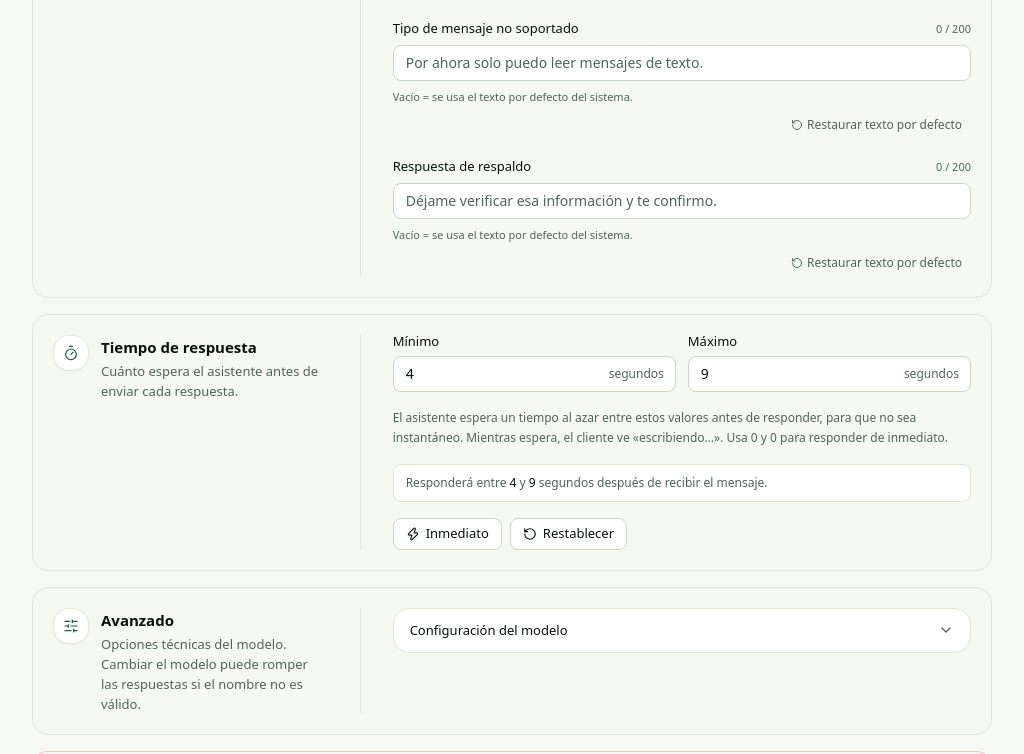
AiSettingsPage › ajusta y limita el tiempo de respuesta, y lo envía al guardar
(page scrolled)
Expected: the number field labelled "Máximo" holds "9", top-left (688, 356), bottom-right (971, 392)
Expected: the message named "Vista previa del tiempo de respuesta" reads "Responderá entre 4 y 9 segundos después de recibir el mensaje.", top-left (393, 464), bottom-right (971, 502)
Replace the text in the number field labelled "Mínimo" with "10": (534, 374) top-left (393, 356), bottom-right (676, 392)
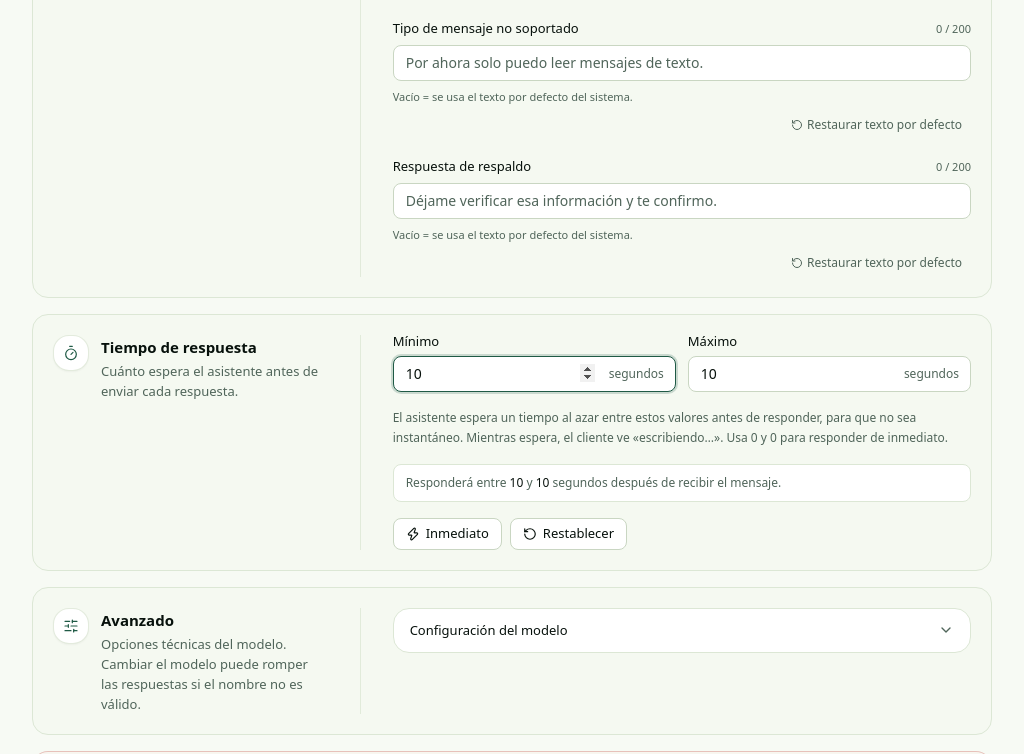
Expected: the number field labelled "Máximo" holds "10"
Replace the text in the number field labelled "Máximo" with "3": (829, 374) top-left (688, 356), bottom-right (971, 392)
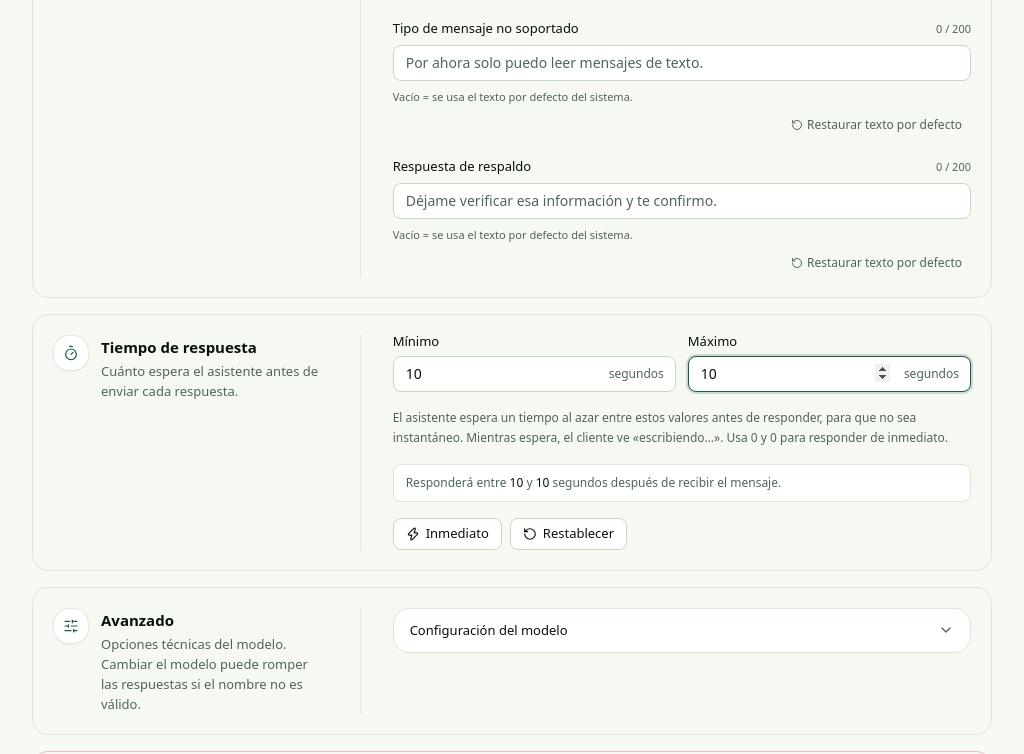
Expected: the number field labelled "Máximo" holds "10", top-left (688, 356), bottom-right (971, 392)
Replace the text in the number field labelled "Mínimo" with "30": (534, 374) top-left (393, 356), bottom-right (676, 392)
(page scrolled)
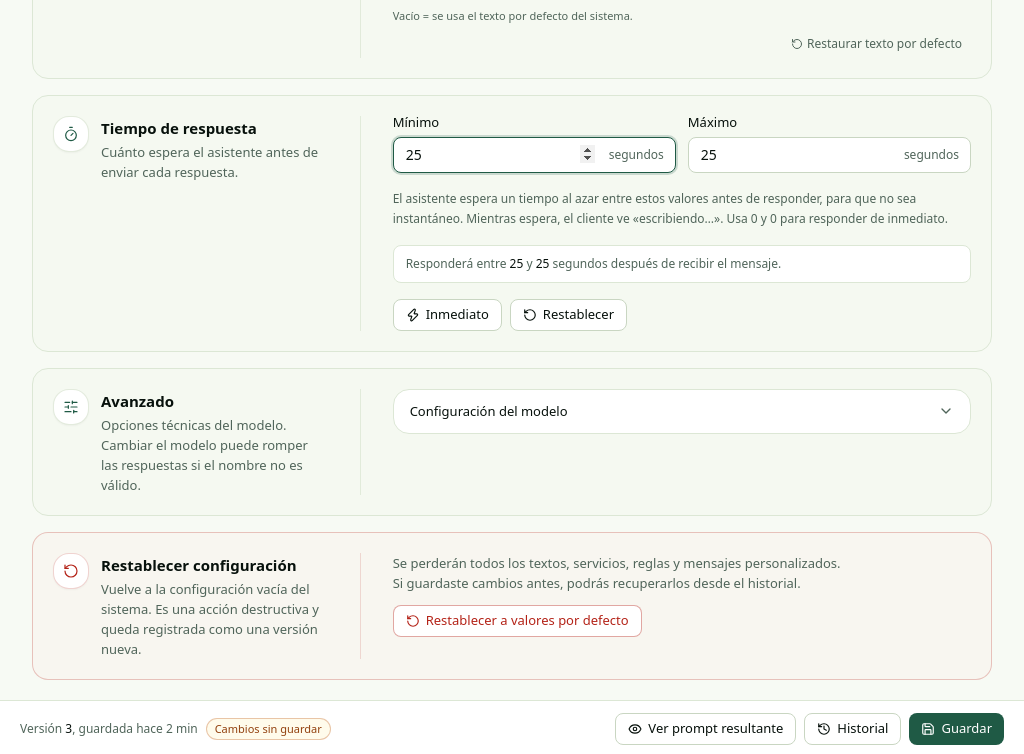
Expected: the number field labelled "Mínimo" holds "25", top-left (393, 137), bottom-right (676, 173)
Expected: the number field labelled "Máximo" holds "25", top-left (688, 137), bottom-right (971, 173)
Click the button "Guardar": (957, 729) top-left (909, 713), bottom-right (1004, 745)
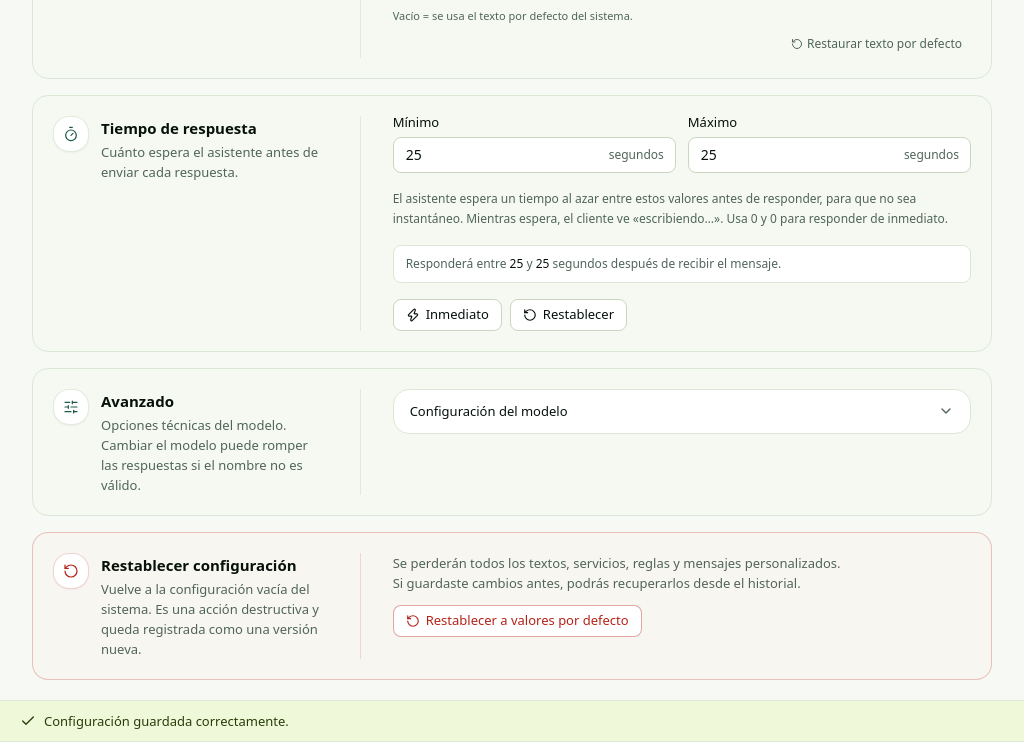
Expected: the text "Configuración guardada correctamente." is shown, top-left (44, 711), bottom-right (289, 731)
